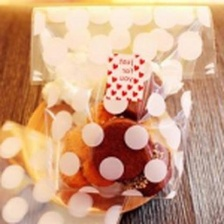snack: (20, 0, 223, 205)
